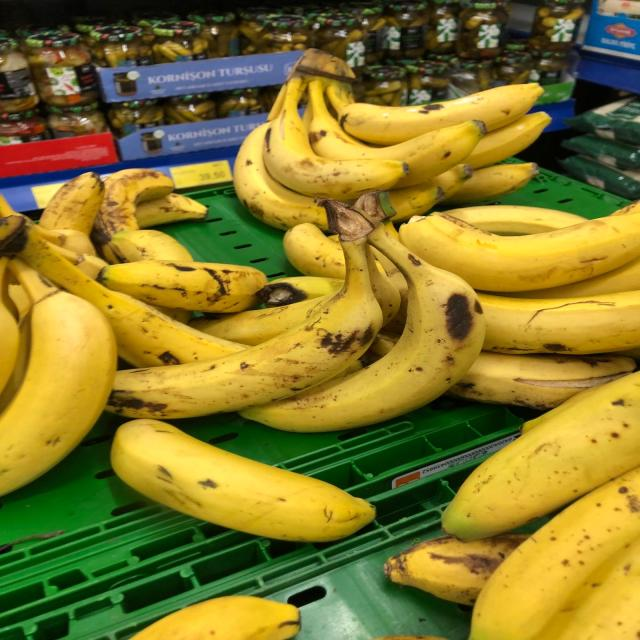banana: (90, 211, 370, 420), (259, 57, 548, 217), (401, 215, 640, 397), (84, 413, 388, 545)
